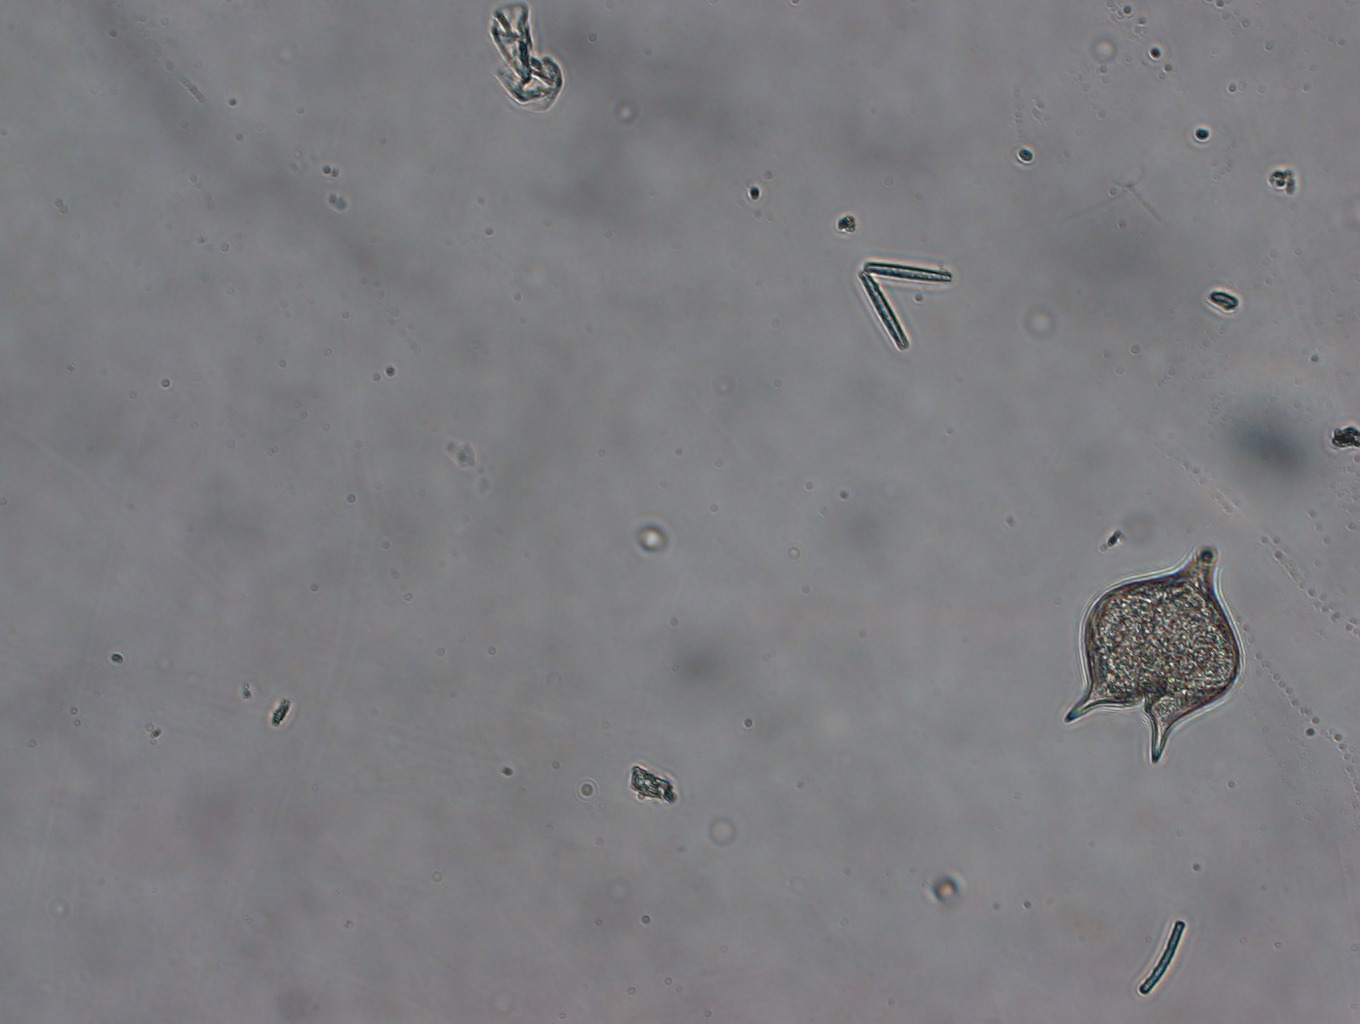protoperidinium: (1063, 545, 1243, 764)
thalassionema nitzschioides: (858, 259, 953, 351)
